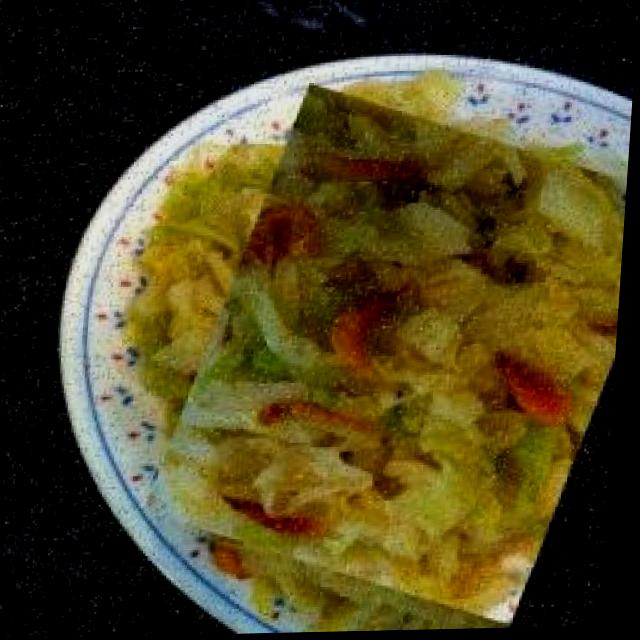chinese_cabbage: (144, 79, 635, 634)
